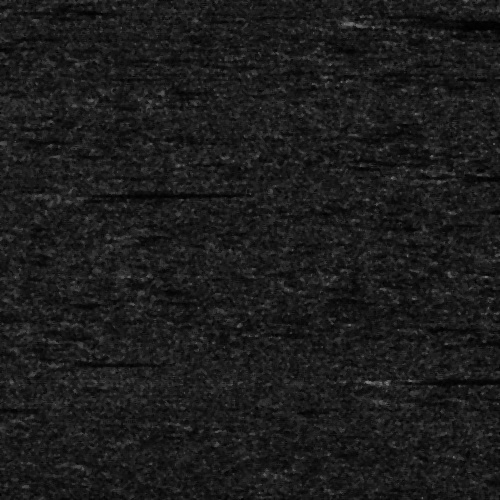object: (326, 16, 379, 25), (349, 376, 422, 381), (33, 189, 86, 194), (413, 173, 454, 178), (50, 359, 91, 364)
shadow: (353, 16, 500, 25), (60, 189, 224, 194), (386, 376, 500, 381), (71, 359, 154, 364), (434, 173, 468, 178)
